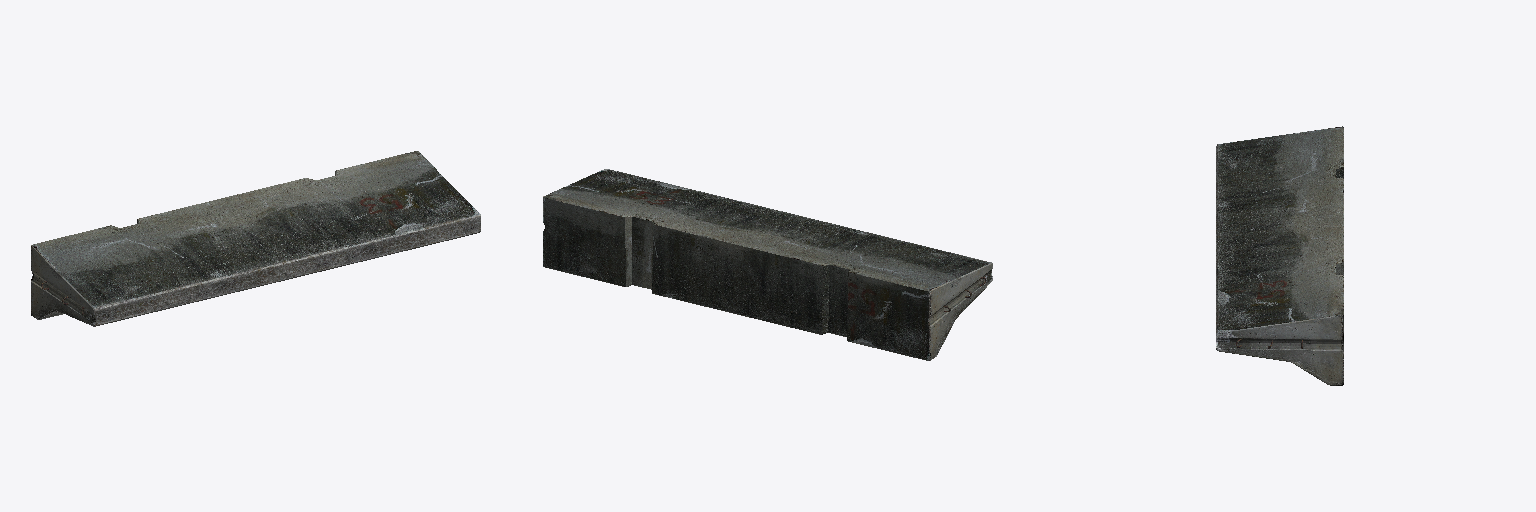
3 renders of one model, left to right at view 1: azimuth 30°, elevation 25°; view 2: azimuth 150°, elevation 25°; view 3: azimuth 270°, elevation 25°, orthographic.
Parts seen in each view (by area): view 1: RoadBlockade_01; view 2: RoadBlockade_01; view 3: RoadBlockade_01.
Boxes of the visible parts, x1,y1,x2,y2 form: RoadBlockade_01: [31, 151, 480, 326]; RoadBlockade_01: [543, 169, 992, 360]; RoadBlockade_01: [1216, 126, 1343, 385].
Bounding box in the file's own units: 2.88 × 0.4903 × 0.8.
Materials: 1 (1 with a texture image).